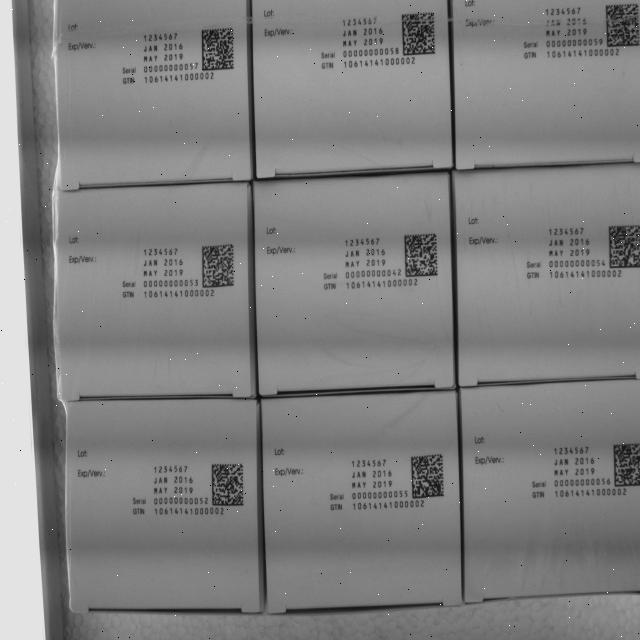datamatrix: (201, 24, 237, 72), (604, 0, 640, 48), (410, 452, 446, 500), (401, 12, 437, 59), (200, 241, 236, 288), (402, 231, 438, 278), (210, 460, 246, 507), (607, 224, 640, 271), (612, 440, 640, 487)
